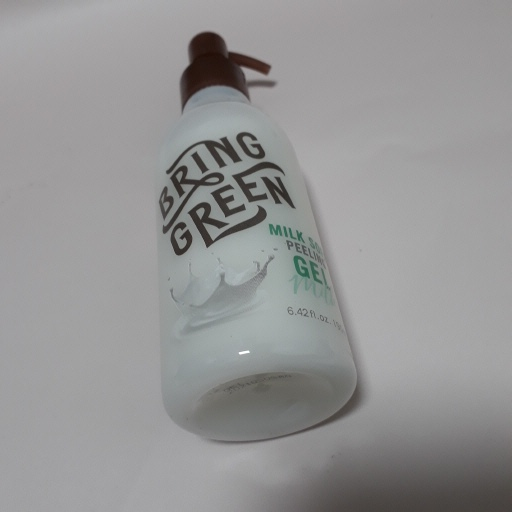Plastic_3: (153, 31, 358, 443)
